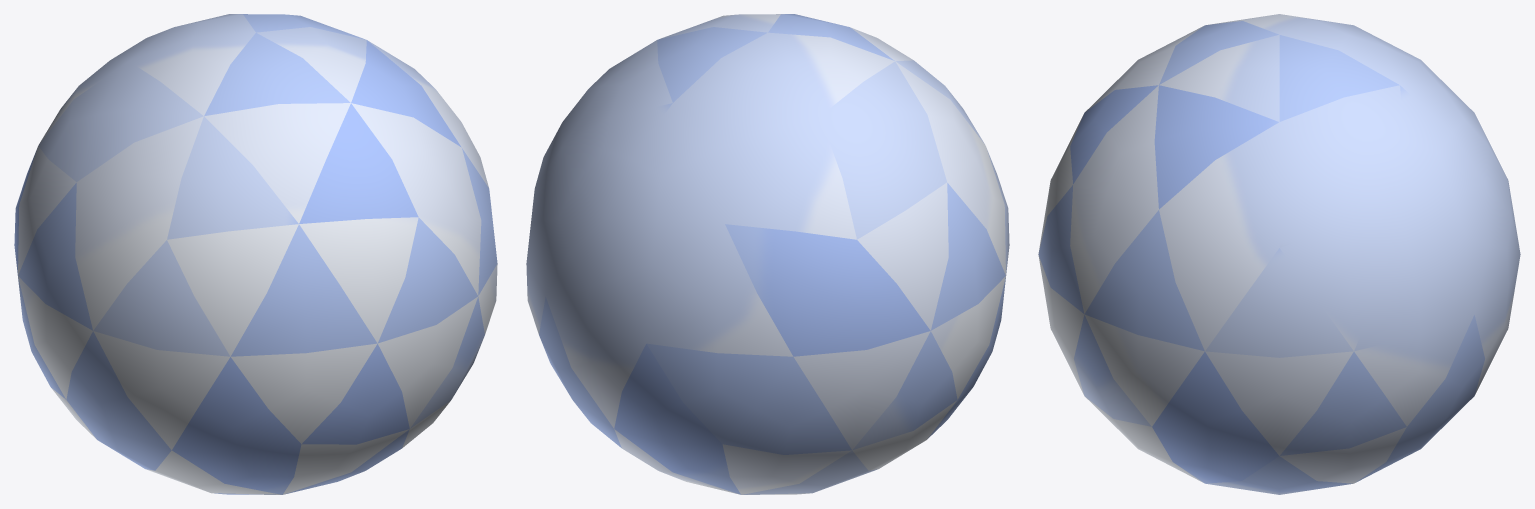
Rendered from BallSmooth.fbx.
3 renders of one model, left to right at view 1: azimuth 30°, elevation 25°; view 2: azimuth 150°, elevation 25°; view 3: azimuth 270°, elevation 25°, orthographic.
Parts seen in each view (by area): view 1: Icosphere.001; view 2: Icosphere.001; view 3: Icosphere.001.
Boxes of the visible parts, x1=… form: Icosphere.001: x1=14, y1=14, x2=497, y2=494; Icosphere.001: x1=526, y1=14, x2=1009, y2=494; Icosphere.001: x1=1038, y1=14, x2=1520, y2=494.
Bounding box in the file's own units: 146 × 147 × 146.
Materials: 1 (1 with a texture image).
